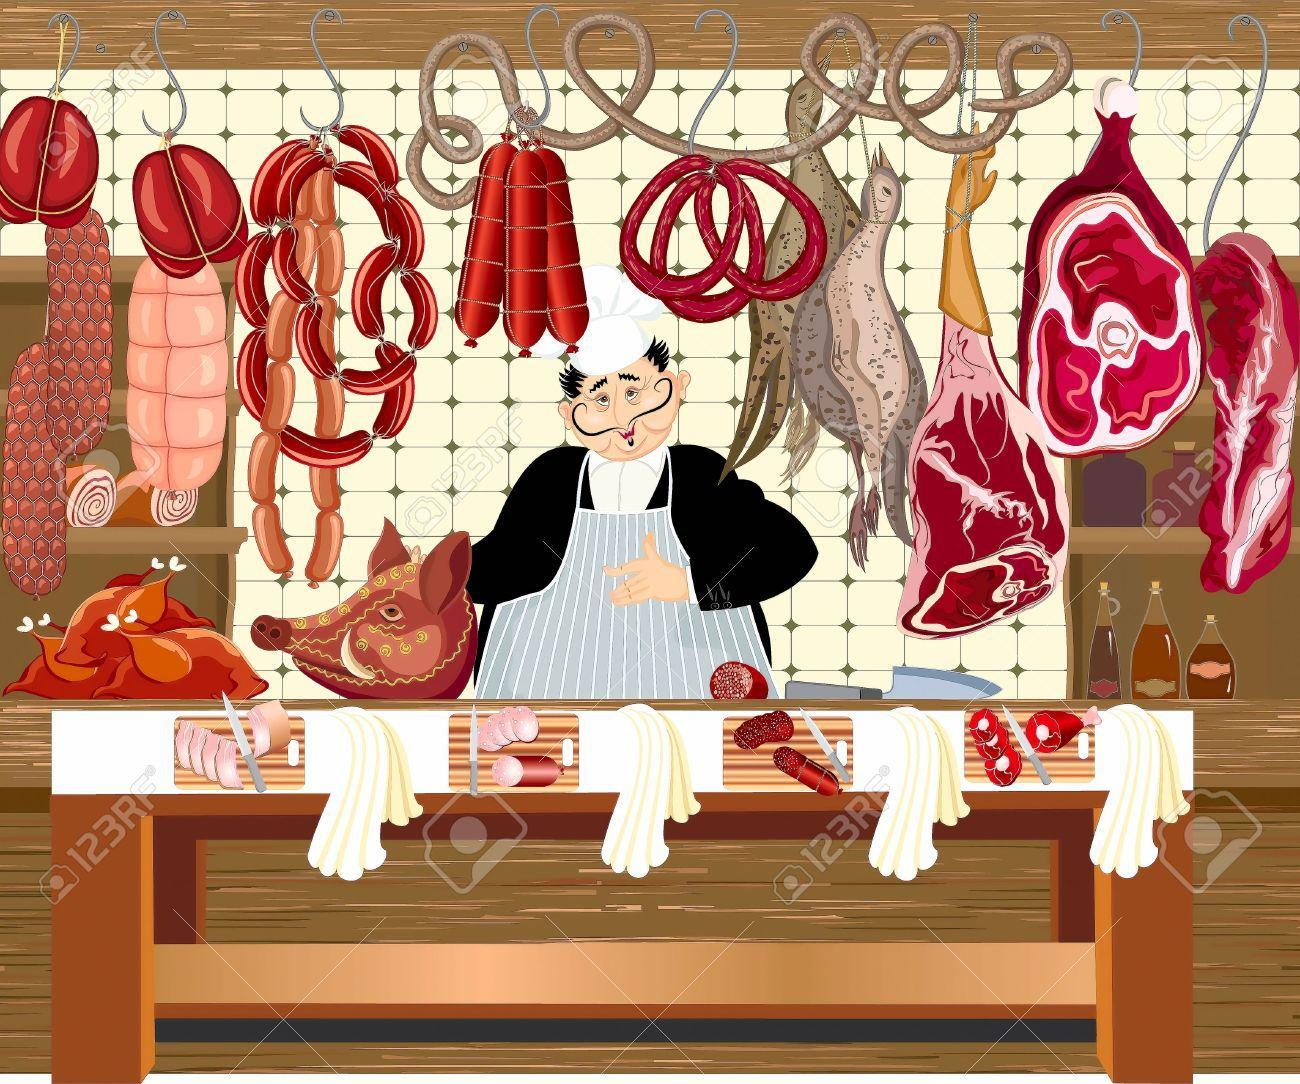person: (449, 265, 828, 702)
